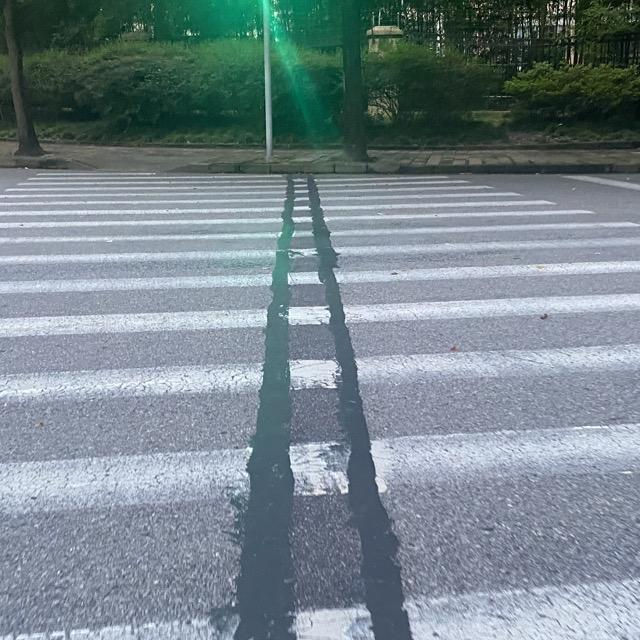curb: (160, 161, 639, 174), (40, 137, 265, 151), (368, 142, 639, 149), (0, 156, 94, 168), (273, 143, 345, 149)
